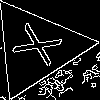X: (11, 22, 73, 72)
